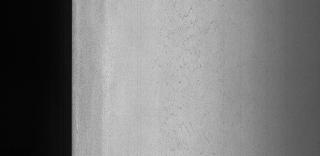silk spot: (152, 0, 210, 150)
